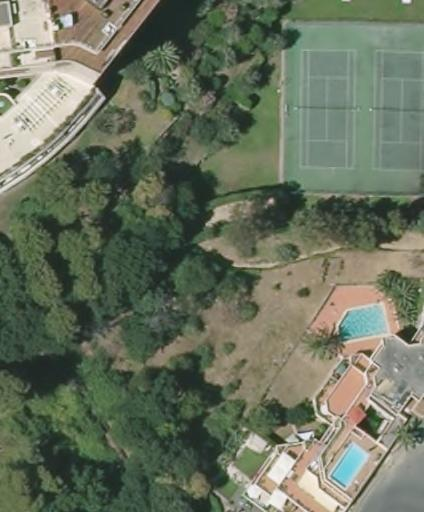pool: (335, 296, 396, 344), (325, 439, 369, 491)
